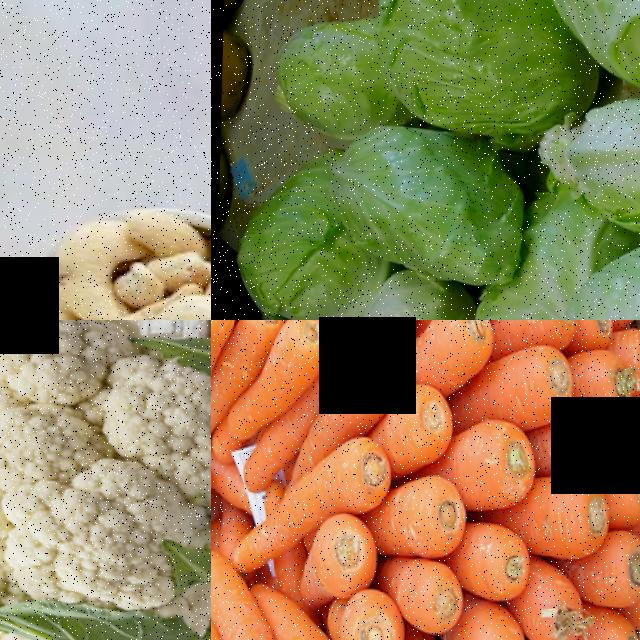cabbage: (321, 110, 530, 288), (379, 0, 576, 117), (519, 85, 640, 259), (212, 180, 355, 320)
carrot: (283, 424, 395, 524), (461, 411, 545, 511), (505, 331, 579, 432), (411, 320, 496, 396), (541, 469, 606, 563), (452, 514, 527, 594), (332, 351, 397, 442), (400, 554, 470, 638), (403, 477, 465, 559), (211, 569, 280, 640), (398, 370, 449, 464), (297, 523, 378, 581), (520, 568, 584, 640), (586, 513, 637, 602), (269, 320, 322, 396), (600, 454, 640, 536), (334, 595, 396, 640), (590, 606, 636, 640), (525, 320, 577, 350)
cashew: (43, 202, 127, 320), (109, 169, 195, 262), (136, 284, 211, 320)
cauliflower: (0, 320, 211, 640)
